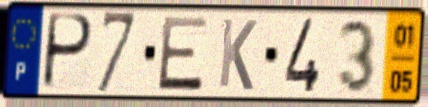3: (337, 18, 379, 95)
4: (283, 16, 322, 94)
7: (95, 10, 140, 96)
E: (155, 15, 210, 94)
K: (216, 16, 259, 94)
P: (39, 10, 96, 93)
